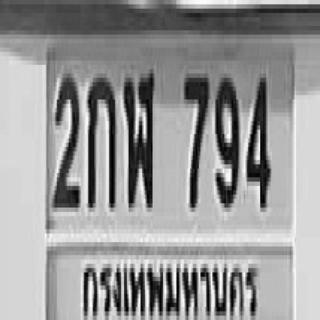A01: (87, 74, 115, 203)
A42: (122, 69, 152, 203)
N02: (52, 69, 78, 203)
N04: (245, 72, 269, 206)
N07: (182, 72, 208, 206)
N09: (214, 74, 238, 203)
P04: (78, 248, 263, 320)
